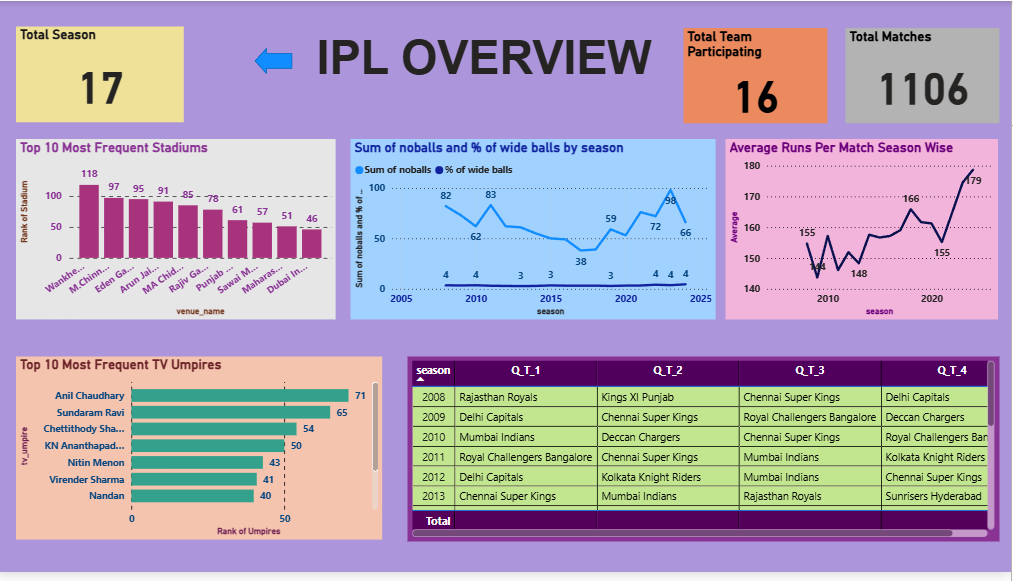

What the dashboard file says about the page in this screenshot:
{"tool":"powerbi","page":{"name":"IPL Overview","canvas":[1280,720],"ordinal":1},"visuals":[{"type":"textbox","box":[90.7,31.8,857.3,90.7],"z":0},{"type":"shape","box":[327.7,58.5,47.7,33.8],"z":1000},{"type":"card","title":"Total Season","fields":{"Values":["all_season_summary.season"]},"box":[27,31.8,211.6,120.9],"z":2000},{"type":"card","title":"Total Team Participating","fields":{"Values":["points_table.name"]},"box":[867.7,33.8,181.5,120],"z":3000},{"type":"card","title":"Total Matches","fields":{"Values":["all_season_summary.id"]},"box":[1070.8,33.8,193.8,120],"z":4000},{"type":"lineChart","title":"Average Runs Per Match Season Wise","fields":{"Category":["all_season_summary.season"],"Y":["all_season_summary.Average"]},"box":[921,173.4,343.6,227.5],"z":5000},{"type":"columnChart","title":"Top 10 Most Frequent Stadiums","fields":{"Category":["all_season_summary.venue_name"],"Y":["all_season_summary.Rank of Stadium"]},"box":[27,173.4,402.4,227.5],"z":6000},{"type":"clusteredBarChart","title":"Top 10 Most Frequent TV Umpires","fields":{"Category":["all_season_summary.tv_umpire"],"Y":["all_season_summary.Rank of Umpires"]},"box":[27,448.6,461.3,230.6],"z":7000},{"type":"lineChart","fields":{"Category":["all_season_bowling_card.season"],"Y":["all_season_bowling_card.noballs","all_season_bowling_card.% of wide balls"]},"box":[447,173.4,459.7,227.5],"z":8000},{"type":"tableEx","fields":{"Values":["points_table.season","points_table.Q_T_1","points_table.Q_T_2","points_table.Q_T_3","points_table.Q_T_4"]},"box":[520.1,447,744.4,232.2],"z":9000}]}

Visuals, with their boxes in screenshot pixels (x1, y1, x2, y2), scaled from the page's 1280x720 canvas onto the 1013x581 screenshot:
textbox: [72, 26, 750, 99]
shape: [259, 47, 297, 74]
"Total Season" card: [21, 26, 189, 123]
"Total Team Participating" card: [687, 27, 830, 124]
"Total Matches" card: [847, 27, 1001, 124]
"Average Runs Per Match Season Wise" lineChart: [729, 140, 1001, 324]
"Top 10 Most Frequent Stadiums" columnChart: [21, 140, 340, 324]
"Top 10 Most Frequent TV Umpires" clusteredBarChart: [21, 362, 386, 548]
lineChart - all_season_bowling_card.season x all_season_bowling_card.noballs: [354, 140, 718, 324]
tableEx - points_table.season x points_table.Q_T_1: [412, 361, 1001, 548]
